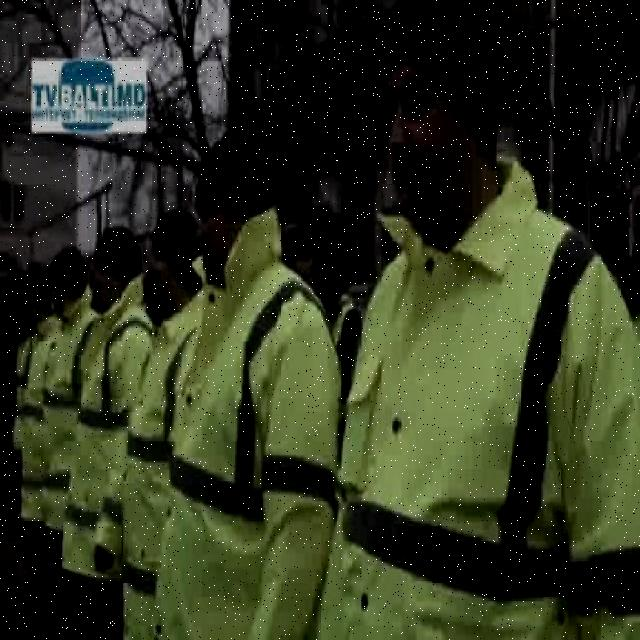Mask: (315, 152, 640, 640), (149, 204, 345, 638), (91, 277, 204, 640), (59, 273, 150, 587), (39, 284, 93, 536), (13, 310, 56, 524)
